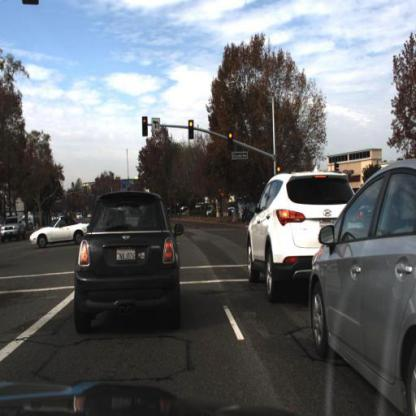car: (310, 157, 416, 401), (72, 185, 183, 338), (244, 167, 341, 301), (31, 213, 91, 253), (1, 211, 27, 248)
trafficLight: (276, 161, 283, 179)
trafficLight-Red: (227, 131, 236, 155), (189, 117, 197, 141)
trafficLight-RedLeft: (142, 115, 150, 140)
